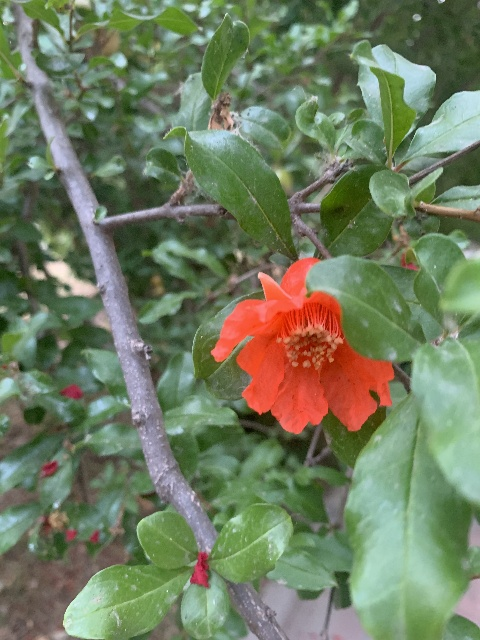flower: (211, 255, 393, 435)
